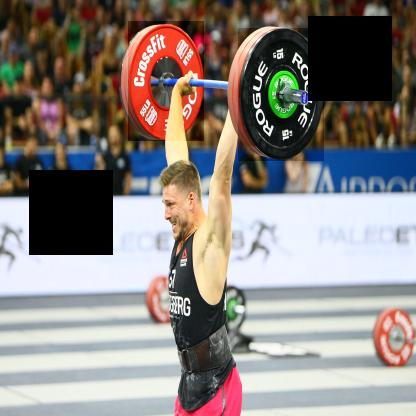barbell: (240, 29, 326, 162), (129, 22, 205, 142)
